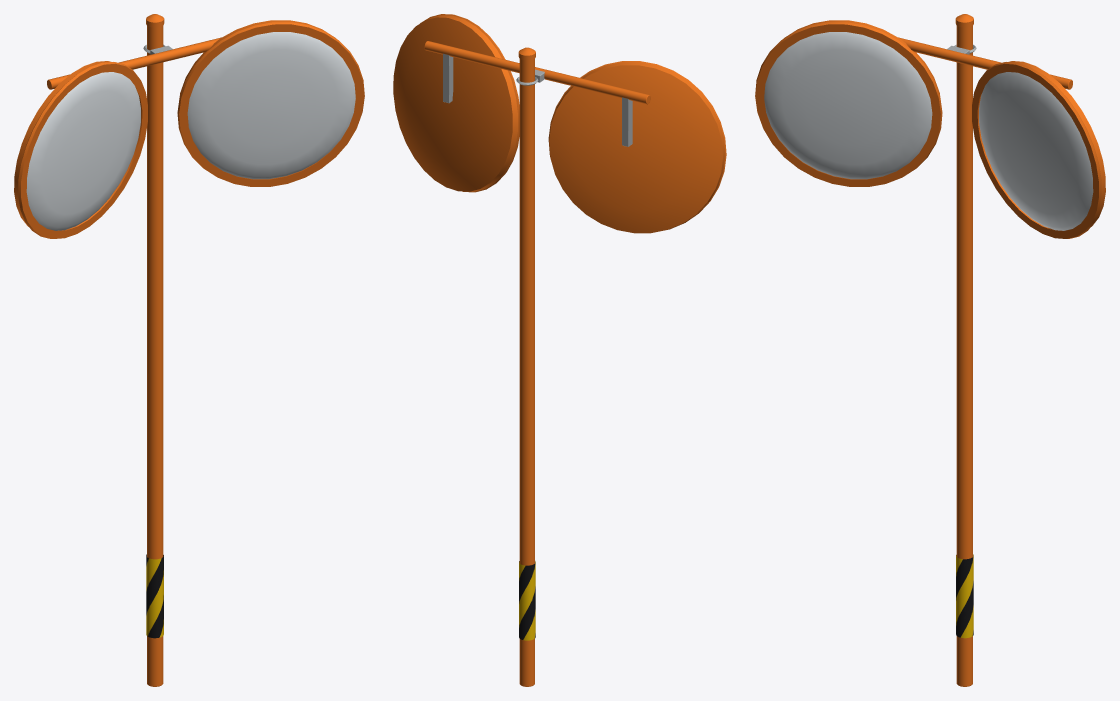
Rendered from convex_traffic_mirror_double.fbx.
3 views of the same model, side by side, from view 1: azimuth 30°, elevation 25°; view 2: azimuth 150°, elevation 25°; view 3: azimuth 330°, elevation 25° (orthographic). The views are drawn at different scales.
Parts seen in each view (by area): view 1: convex_traffic_mirror_double; view 2: convex_traffic_mirror_double; view 3: convex_traffic_mirror_double.
Part boxes in pixels (<box>): convex_traffic_mirror_double: <box>14,14,364,686</box>; convex_traffic_mirror_double: <box>393,14,726,686</box>; convex_traffic_mirror_double: <box>755,14,1105,686</box>.
Bounding box in the file's own units: 1.84 × 3.39 × 0.4048.
Materials: 4 (1 with a texture image).
